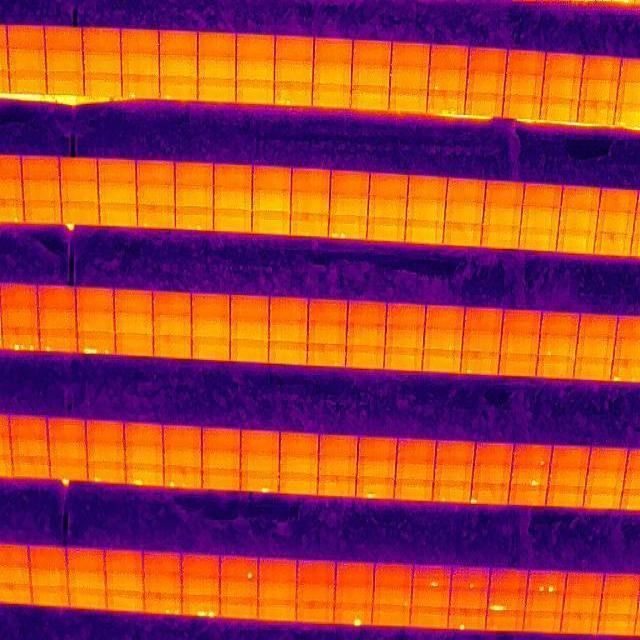Cell: (290, 214, 329, 238), (460, 351, 499, 375), (428, 68, 467, 92), (121, 74, 160, 98), (219, 556, 259, 579), (412, 566, 452, 589), (136, 206, 175, 229), (451, 566, 490, 589), (159, 76, 198, 99), (424, 329, 463, 351), (39, 330, 78, 352), (512, 445, 552, 466), (240, 471, 280, 491), (539, 335, 577, 356), (510, 468, 549, 488), (470, 484, 509, 504), (335, 604, 372, 625), (89, 462, 126, 482), (449, 610, 486, 630), (432, 483, 470, 502)
Cell-Multi: (427, 91, 466, 114), (182, 595, 222, 617), (329, 216, 367, 239), (175, 208, 214, 230), (275, 83, 313, 105), (1, 329, 40, 350), (527, 572, 567, 592), (164, 468, 203, 488), (145, 594, 182, 614)
No-Anomaly: (446, 177, 486, 205), (252, 166, 291, 192), (445, 200, 484, 226), (38, 286, 77, 312), (45, 26, 84, 52), (313, 62, 352, 88), (352, 62, 391, 88), (313, 82, 352, 108), (213, 165, 253, 190), (425, 305, 465, 330), (407, 198, 445, 224), (406, 219, 444, 245), (444, 222, 482, 248), (231, 338, 269, 364), (581, 78, 619, 104), (389, 88, 427, 114), (466, 92, 504, 118), (116, 332, 155, 357), (307, 342, 346, 367), (236, 80, 275, 105), (352, 85, 391, 110), (21, 156, 61, 180), (369, 174, 409, 198), (251, 190, 291, 214), (557, 230, 597, 254), (198, 32, 238, 56), (352, 40, 392, 64), (197, 56, 237, 80), (98, 160, 136, 185), (61, 180, 99, 205), (485, 180, 523, 205), (521, 205, 559, 230), (483, 225, 521, 250), (430, 45, 468, 70), (435, 441, 476, 464), (550, 446, 591, 469), (59, 158, 98, 182), (292, 168, 331, 192), (331, 172, 370, 196), (175, 186, 214, 210), (484, 204, 523, 228), (214, 210, 253, 234), (251, 212, 290, 236), (347, 321, 386, 345), (192, 336, 231, 360), (423, 350, 462, 374), (7, 25, 46, 49), (120, 30, 159, 54), (160, 32, 199, 56), (238, 34, 277, 58), (67, 548, 106, 572), (144, 550, 183, 574), (258, 558, 297, 582), (258, 578, 297, 602), (46, 50, 85, 74), (46, 72, 85, 96), (84, 74, 123, 98), (504, 74, 543, 98), (197, 78, 236, 102), (114, 311, 154, 334), (385, 326, 425, 349), (408, 175, 446, 199), (524, 184, 562, 208), (561, 186, 599, 210), (599, 188, 637, 212), (596, 212, 634, 236), (367, 218, 405, 242), (520, 228, 558, 252), (115, 288, 153, 312), (77, 288, 115, 312), (541, 311, 579, 335), (192, 315, 230, 339), (589, 446, 627, 470), (392, 44, 430, 68), (469, 48, 507, 72), (8, 48, 46, 72), (508, 50, 546, 74), (160, 54, 198, 78), (391, 66, 429, 90), (543, 76, 581, 100), (473, 444, 514, 466), (98, 181, 137, 204), (230, 296, 269, 319), (578, 101, 617, 124), (595, 231, 632, 255), (347, 345, 384, 369), (83, 28, 120, 52), (584, 56, 621, 80), (504, 96, 541, 120), (136, 185, 176, 207), (307, 320, 347, 342), (384, 348, 424, 370), (274, 38, 314, 60), (565, 572, 605, 594), (410, 606, 450, 628), (62, 201, 100, 224), (537, 356, 575, 379), (84, 51, 122, 74), (467, 71, 505, 94), (175, 164, 214, 186), (22, 179, 61, 201), (213, 189, 252, 211), (292, 193, 331, 215), (99, 205, 138, 227), (559, 208, 598, 230), (308, 299, 347, 321), (1, 308, 40, 330), (154, 313, 193, 335), (579, 315, 618, 337), (498, 354, 537, 376), (86, 420, 125, 442), (358, 438, 397, 460), (563, 592, 602, 614), (545, 54, 584, 76), (236, 58, 275, 80), (386, 304, 426, 325), (500, 332, 540, 353), (576, 337, 616, 358), (319, 437, 359, 458), (583, 489, 623, 510), (330, 194, 368, 216), (368, 198, 406, 220), (0, 285, 38, 307), (153, 290, 191, 312), (270, 320, 308, 342), (463, 329, 501, 351), (154, 335, 192, 357), (269, 343, 307, 365), (48, 418, 86, 440), (125, 424, 163, 446), (314, 39, 352, 61), (375, 565, 413, 587), (298, 602, 336, 624), (373, 604, 411, 626), (121, 54, 159, 76), (540, 100, 578, 122), (463, 308, 504, 328), (521, 612, 562, 632), (269, 299, 308, 320), (39, 310, 78, 331), (397, 440, 436, 461), (202, 450, 241, 471), (279, 455, 318, 476), (394, 480, 433, 501), (144, 574, 183, 595), (600, 595, 639, 616), (486, 610, 525, 631), (574, 358, 611, 380), (10, 418, 47, 440), (106, 549, 143, 571), (182, 553, 219, 575), (33, 586, 70, 608), (23, 202, 63, 222), (347, 302, 387, 322), (241, 452, 281, 472), (318, 458, 358, 478), (472, 465, 512, 485), (548, 468, 588, 488), (585, 470, 625, 490), (297, 562, 337, 582), (67, 571, 107, 591), (137, 164, 175, 185), (192, 294, 230, 315), (503, 310, 541, 331), (202, 430, 240, 451), (337, 565, 375, 586), (603, 573, 639, 595), (163, 428, 202, 448), (240, 432, 279, 452), (279, 434, 318, 454), (87, 442, 126, 462), (164, 448, 203, 468), (317, 478, 356, 498), (508, 486, 547, 506), (547, 488, 586, 508), (489, 568, 528, 588), (181, 576, 220, 596), (297, 581, 336, 601), (373, 588, 412, 608), (412, 588, 451, 608), (258, 601, 297, 621), (560, 614, 599, 634), (395, 463, 436, 482), (77, 311, 115, 331), (49, 441, 87, 461), (203, 470, 241, 490), (107, 572, 145, 592), (220, 578, 258, 598), (336, 586, 374, 606), (107, 592, 145, 612), (525, 592, 563, 612), (220, 598, 258, 618), (275, 62, 313, 82), (231, 320, 270, 339), (434, 465, 473, 484), (11, 440, 48, 460), (30, 568, 67, 588), (451, 589, 488, 609), (9, 72, 46, 92), (12, 460, 50, 479), (51, 461, 89, 480), (30, 546, 66, 566), (598, 615, 638, 633), (280, 475, 317, 494), (70, 591, 107, 610), (126, 447, 164, 465), (357, 460, 395, 478), (0, 545, 30, 566), (0, 586, 33, 605), (0, 566, 31, 585)
Unclassified: (78, 331, 116, 355), (488, 589, 526, 611), (355, 479, 394, 500), (126, 467, 164, 488)
